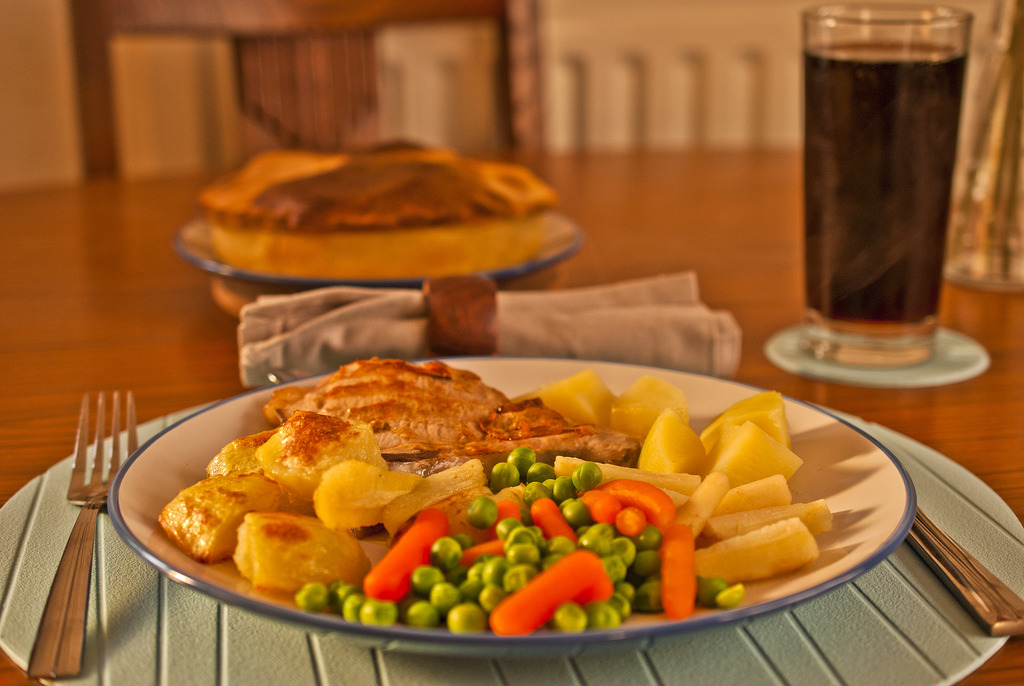boiled peas: (357, 445, 658, 638)
boiled potatoes: (215, 392, 389, 602), (707, 420, 826, 572), (558, 371, 695, 431), (651, 416, 713, 479), (727, 392, 794, 437)
